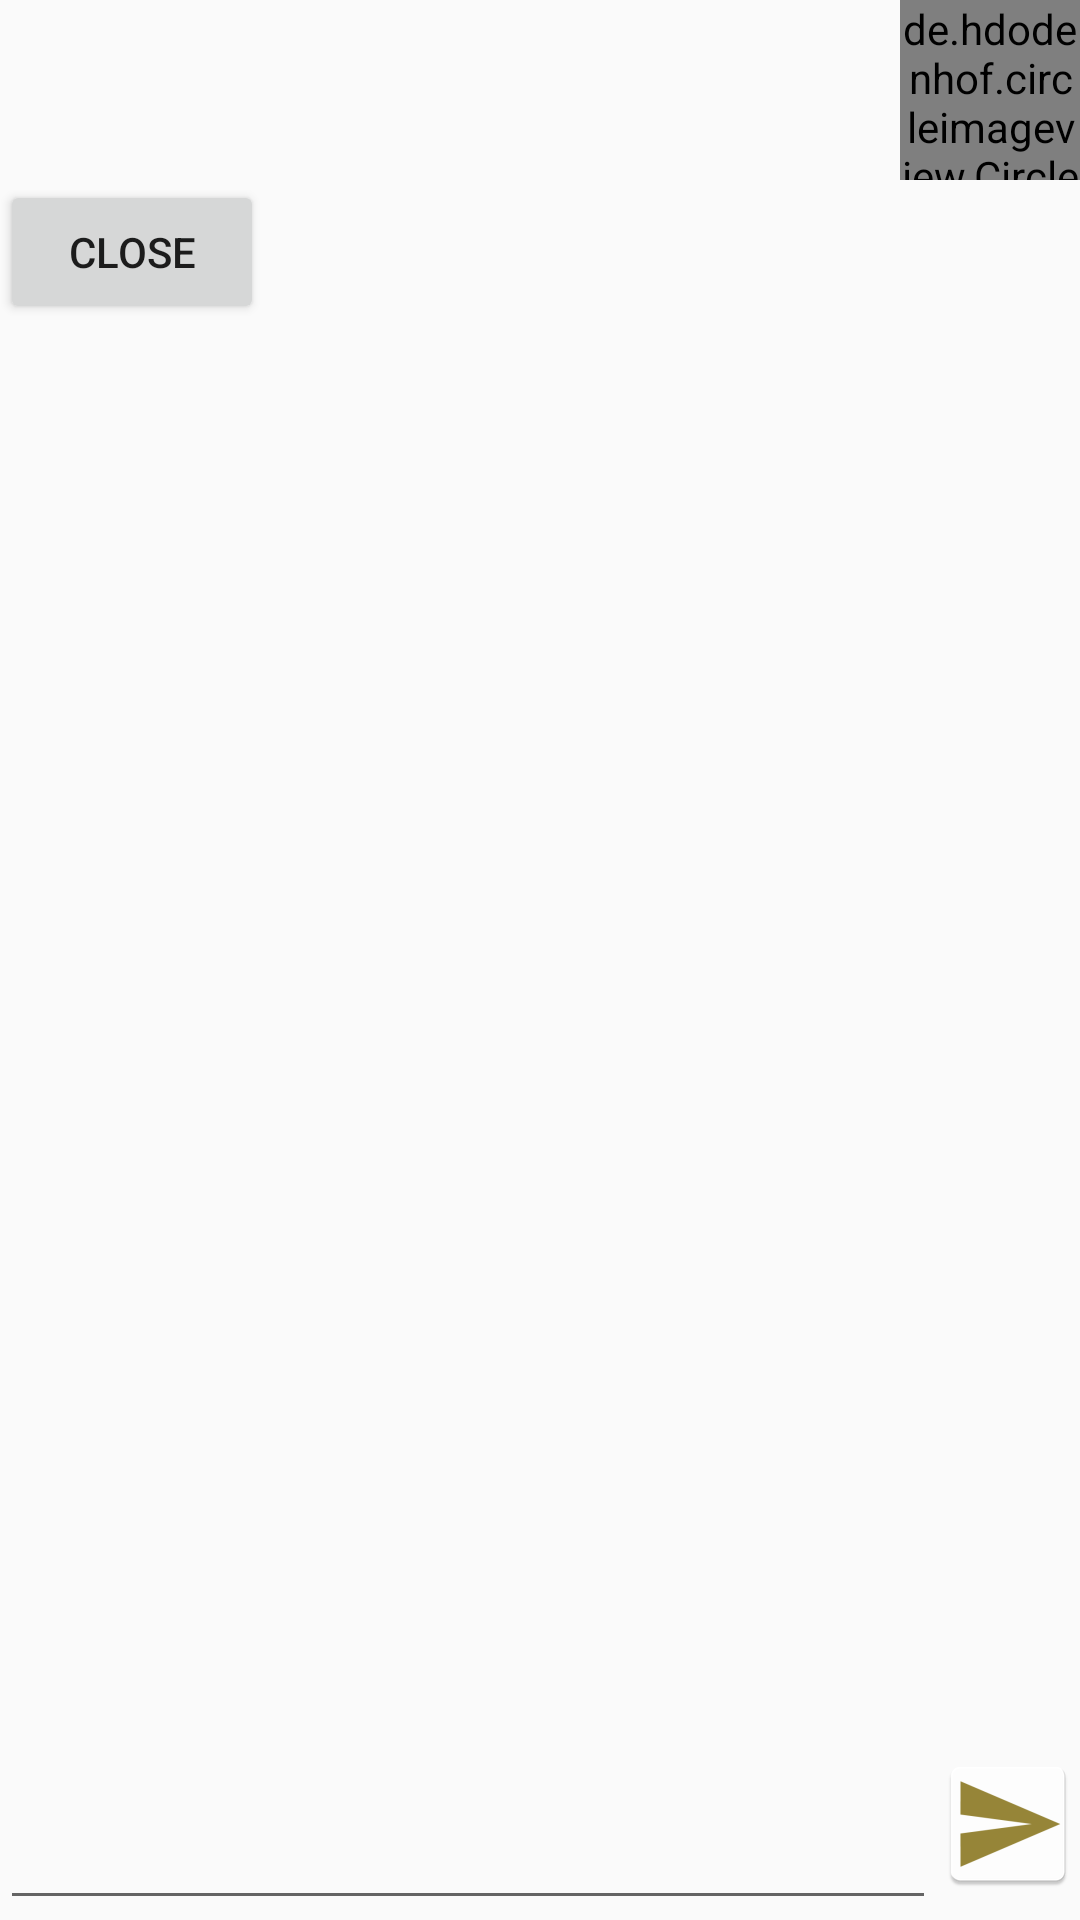

Icons on this 1080 × 1920 Android screen, each with its box as [left=x1, top=y1, right=x2, bottom=y2]:
send: [left=951, top=1773, right=1066, bottom=1885]
